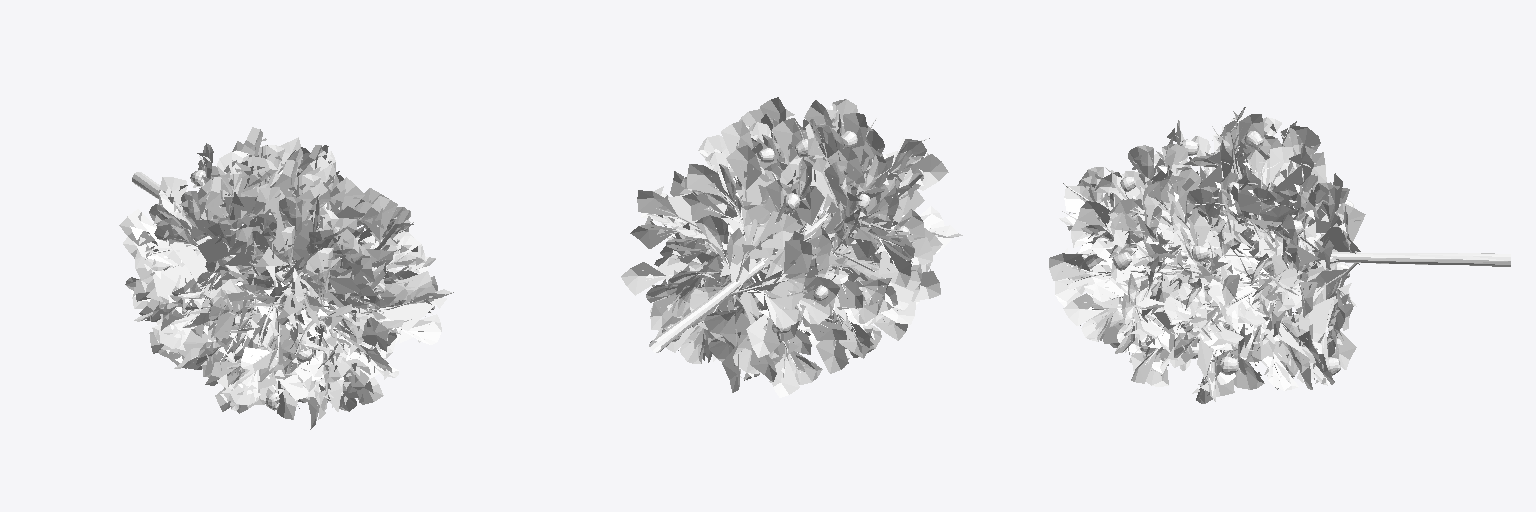
File: AppleTree.obj
The picture shows the model from 3 angles: view 1: azimuth 30°, elevation 25°; view 2: azimuth 150°, elevation 25°; view 3: azimuth 270°, elevation 25°; orthographic projection.
Visible parts, largest first — view 1: Object.2, Object.1, Object.3; view 2: Object.2, Object.1, Object.3; view 3: Object.2, Object.1, Object.3.
Boxes of the visible parts, x1,y1,x2,y2 form: Object.2: [119, 127, 453, 429]; Object.1: [132, 145, 413, 408]; Object.3: [165, 170, 385, 409]; Object.2: [621, 97, 962, 397]; Object.1: [649, 118, 929, 352]; Object.3: [662, 118, 923, 341]; Object.2: [1049, 107, 1365, 403]; Object.1: [1062, 126, 1510, 356]; Object.3: [1103, 131, 1353, 375].
Bounding box in the file's own units: 10 × 9.21 × 14.94.